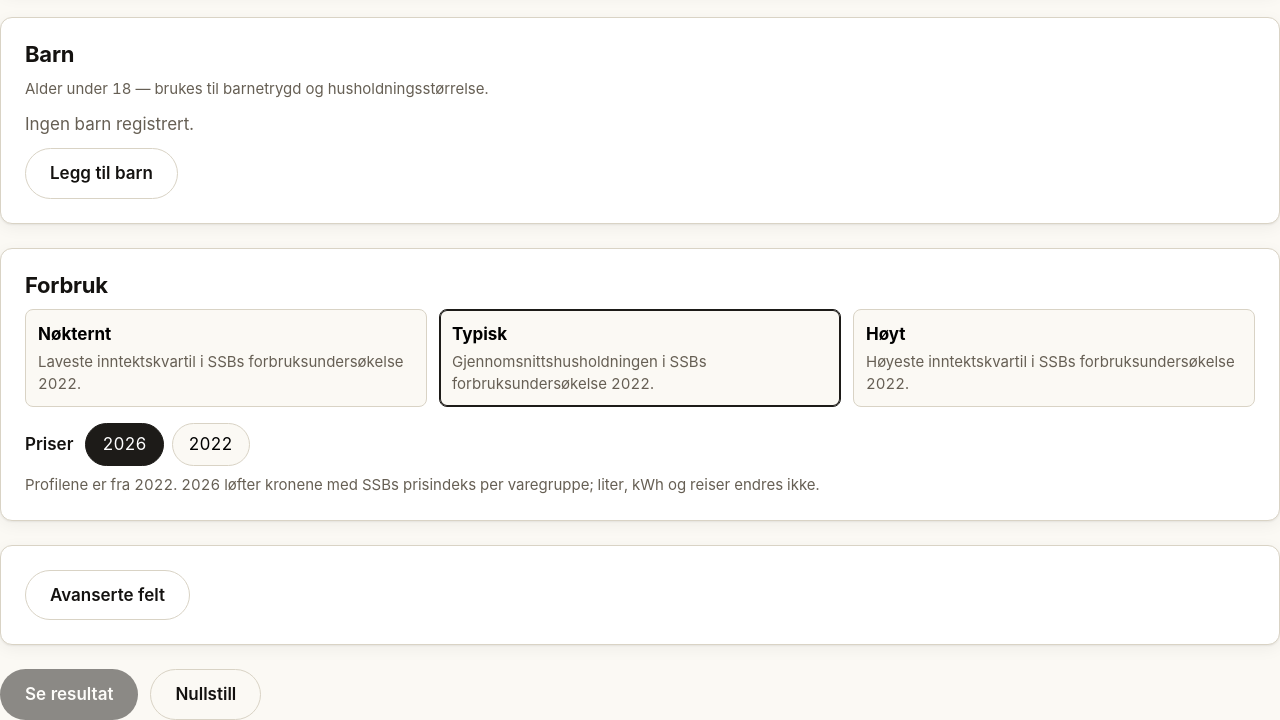
Scenario: CalculatorView: wealth fields the engine already models › the calculator wires the loaded data into the toggles
(page scrolled)
Click the button "Avanserte felt".
click(108, 595)  # box [25,570,190,620]
(page scrolled)
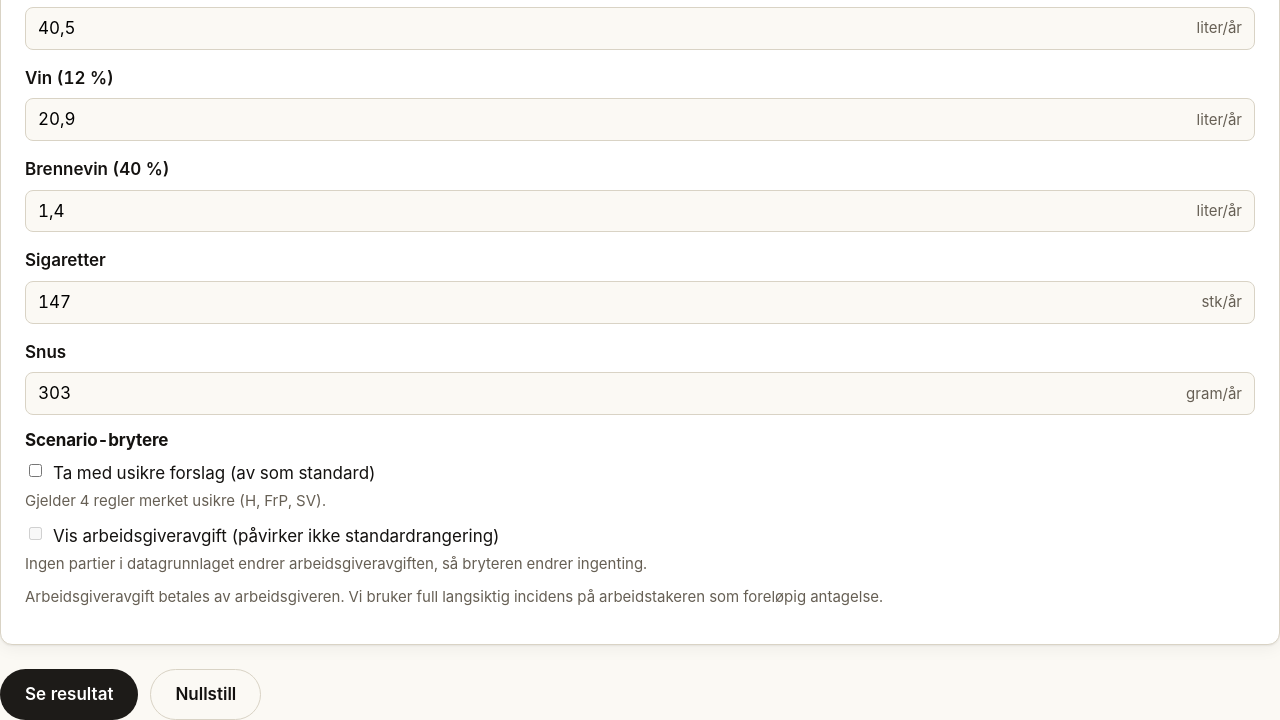
expect the text "Gjelder 4 regler merket usikre (H, FrP, SV)." is shown: met, box [25,491,326,510]
expect the checkbox labelled "Ta med usikre forslag (av som standard)" is enabled: met, box [29,464,42,478]
